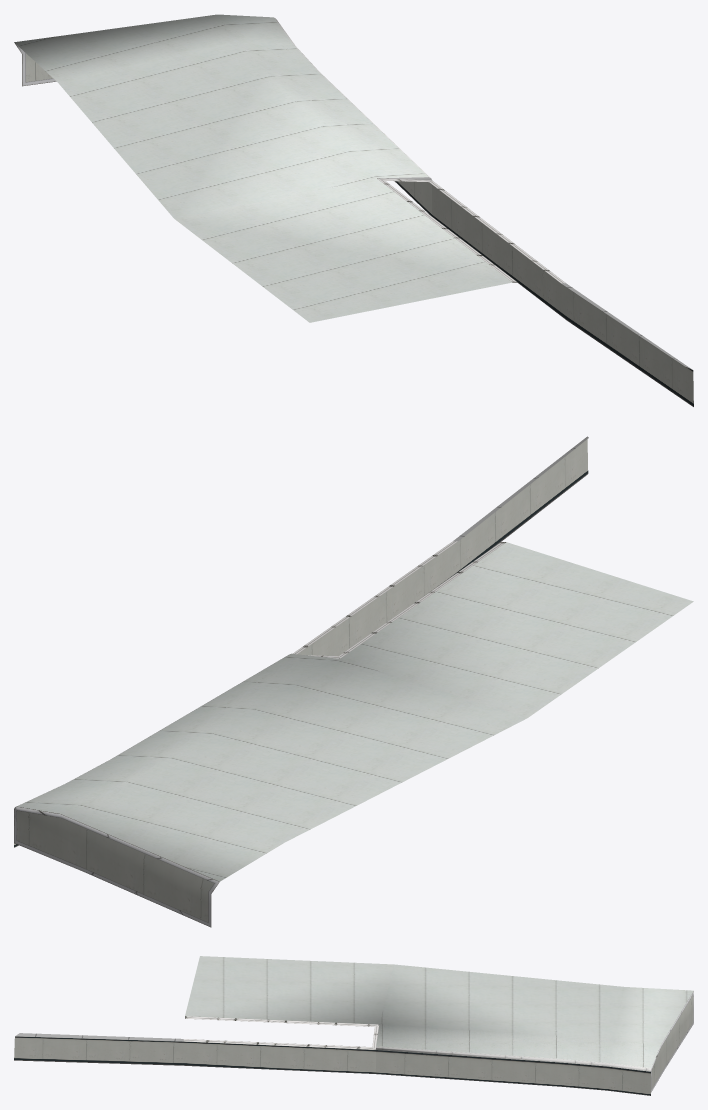
Rendered from STA20_ClubExtPartD.FBX.
The picture shows the model from 3 angles, top to bottom: view 1: azimuth 30°, elevation 25°; view 2: azimuth 150°, elevation 25°; view 3: azimuth 270°, elevation 25°; orthographic projection. The views are drawn at different scales.
Parts seen in each view (by area): view 1: STA20_ClubExtPartD; view 2: STA20_ClubExtPartD; view 3: STA20_ClubExtPartD.
Part boxes in pixels (box(x1,y1,x2,y2)): STA20_ClubExtPartD: box(14, 14, 693, 406); STA20_ClubExtPartD: box(14, 436, 693, 927); STA20_ClubExtPartD: box(14, 956, 693, 1095).
Bounding box in the file's own units: 27.08 × 5.28 × 78.16.
